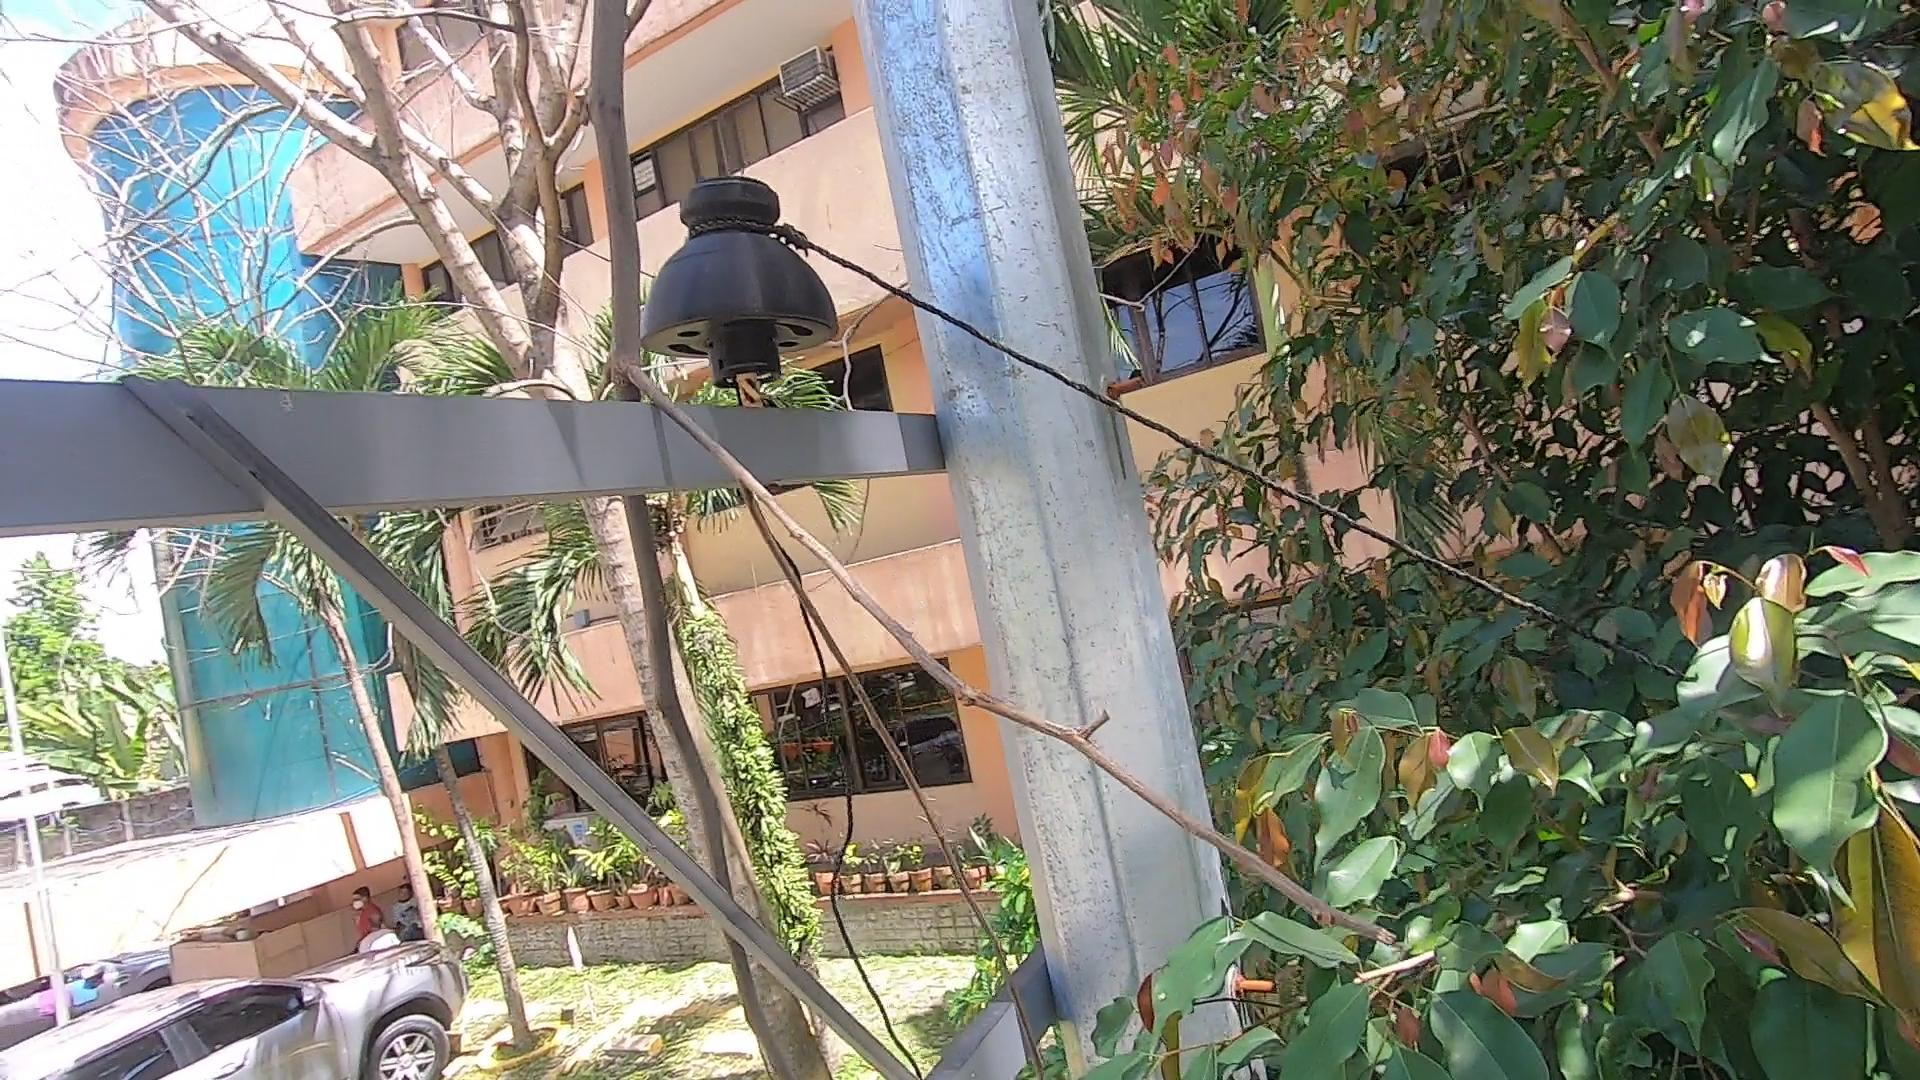tree branch: (483, 3, 1422, 1080)
